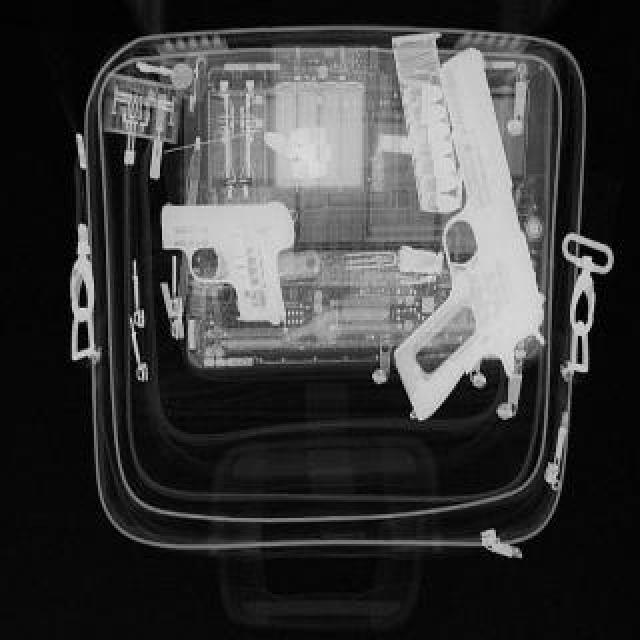gun: (390, 42, 554, 422), (156, 198, 300, 322)
